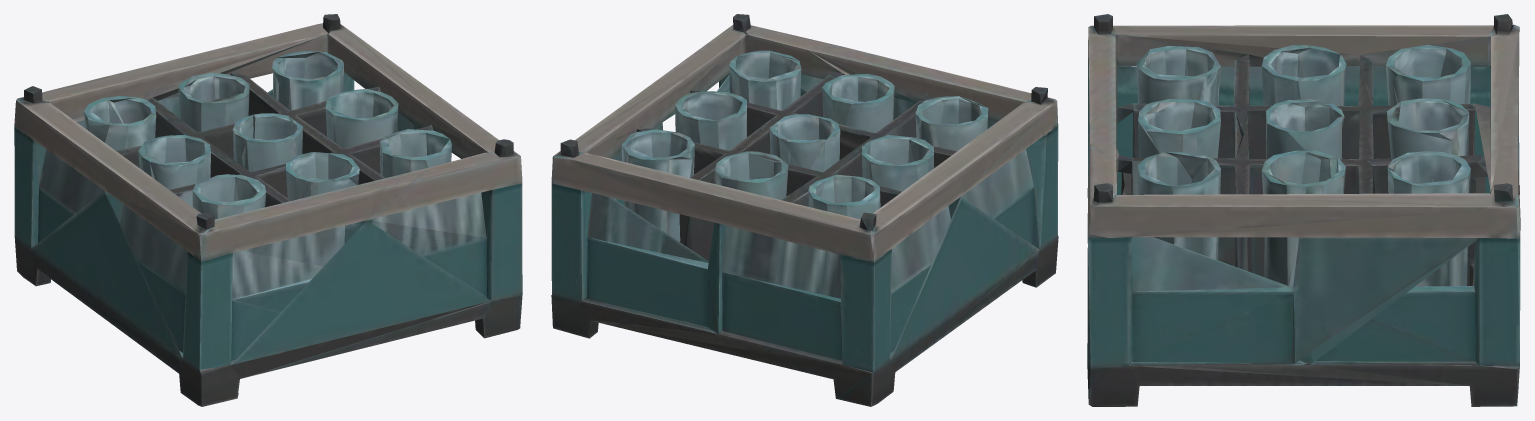
The model's file is glassRack.glb.
3 renders of one model, left to right at view 1: azimuth 30°, elevation 25°; view 2: azimuth 150°, elevation 25°; view 3: azimuth 270°, elevation 25°, orthographic. The views are drawn at different scales.
Visible parts, largest first — view 1: Mesh_0; view 2: Mesh_0; view 3: Mesh_0.
Boxes of the visible parts, box(x1,y1,x2,y2) form: Mesh_0: box(14, 14, 522, 406); Mesh_0: box(551, 14, 1058, 406); Mesh_0: box(1087, 14, 1520, 406).
Bounding box in the file's own units: 0.3645 × 0.2 × 0.3643.
Materials: 1 (1 with a texture image).
